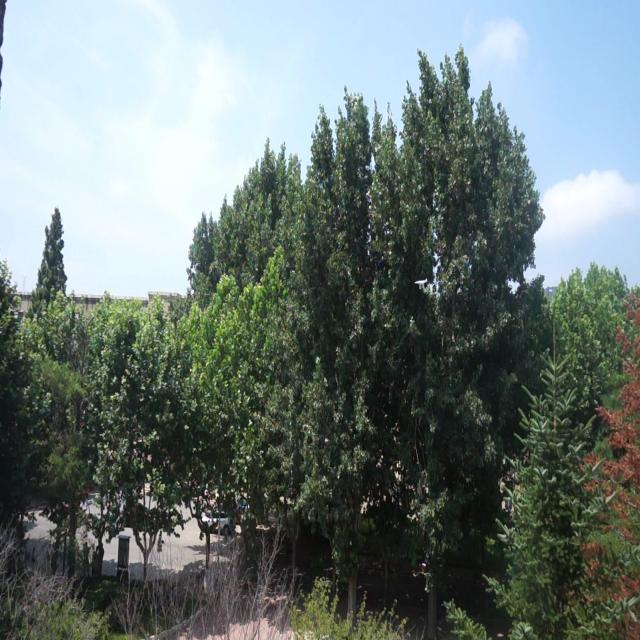UAV: (414, 278, 428, 289)
